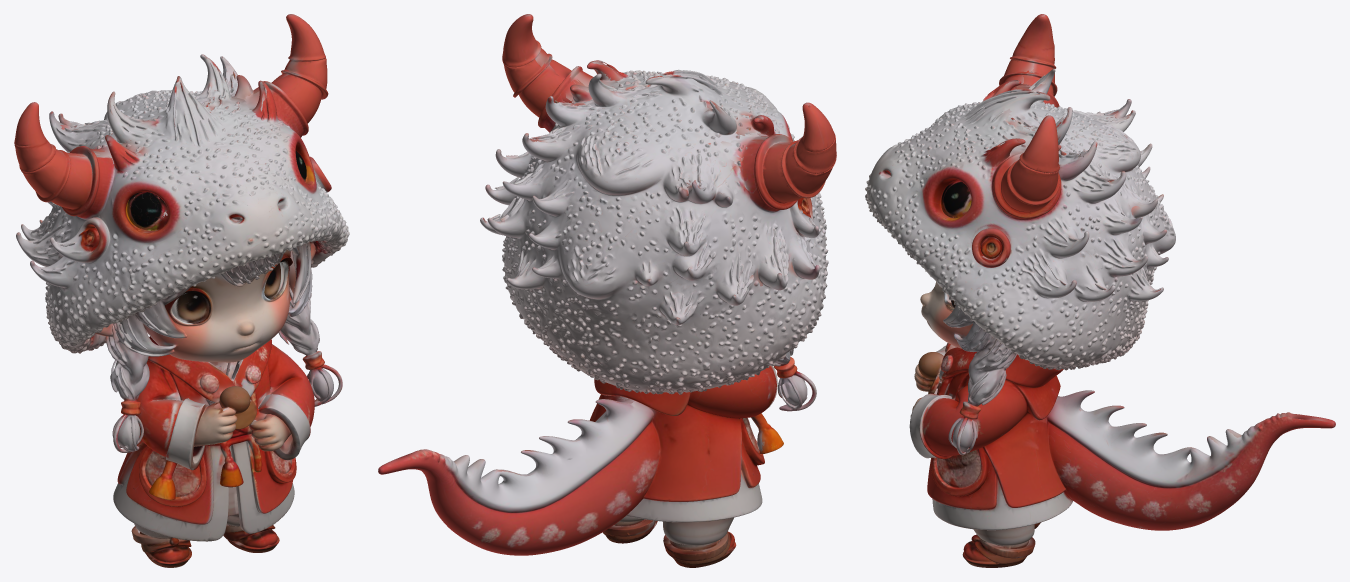
Rendered from wings_of_freedom-child-3741.high.glb.
3 views of the same model, side by side, from view 1: azimuth 30°, elevation 25°; view 2: azimuth 150°, elevation 25°; view 3: azimuth 270°, elevation 25° (orthographic). The views are drawn at different scales.
Visible parts, largest first — view 1: texture_pbr_v128; view 2: texture_pbr_v128; view 3: texture_pbr_v128.
Part boxes in pixels (x1,y1,x2,y2): texture_pbr_v128: (14,14,349,567); texture_pbr_v128: (378,14,836,567); texture_pbr_v128: (865,14,1335,567).
Bounding box in the file's own units: 0.692 × 1.04 × 0.9351.
Materials: 1 (1 with a texture image).
